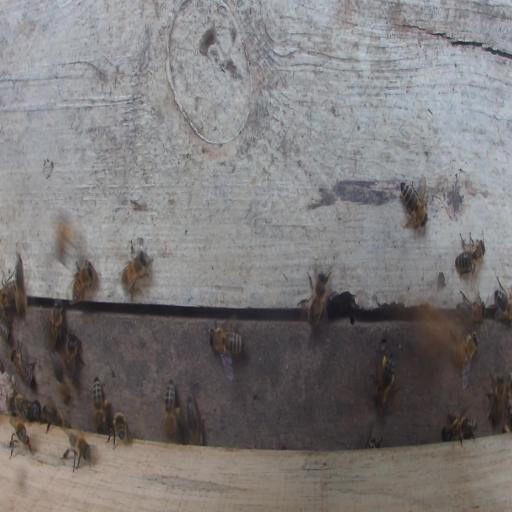bee: (297, 268, 332, 328), (208, 321, 244, 375), (450, 330, 479, 388), (454, 232, 485, 282), (118, 249, 150, 292), (62, 428, 92, 473), (400, 181, 429, 225), (443, 410, 477, 447), (50, 350, 72, 405), (69, 258, 95, 302), (486, 373, 506, 429), (10, 342, 35, 385), (375, 355, 395, 408), (56, 218, 79, 262), (106, 411, 132, 448), (8, 418, 32, 458), (164, 379, 180, 439), (457, 292, 485, 324), (13, 254, 27, 316), (186, 394, 203, 445), (494, 275, 511, 322), (93, 378, 107, 431), (10, 392, 36, 419), (49, 299, 63, 345), (41, 404, 63, 433), (65, 332, 80, 372), (1, 272, 16, 309), (365, 425, 383, 448), (0, 319, 11, 343)
